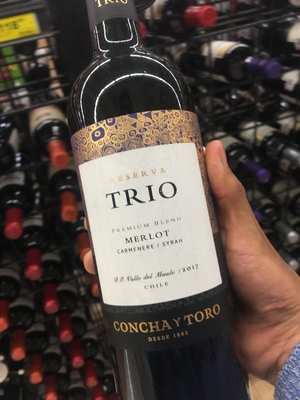trio merlot: (56, 11, 224, 388)
